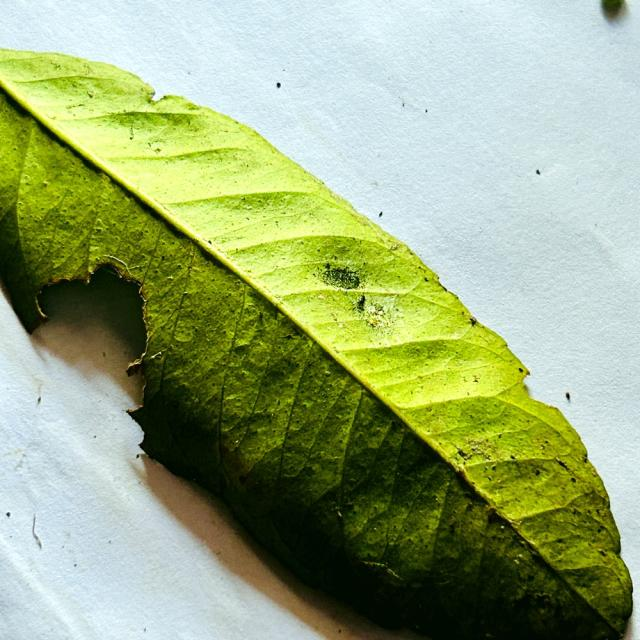Deficiency Leaf: (25, 266, 146, 424)
Lemon: (0, 49, 632, 638)
